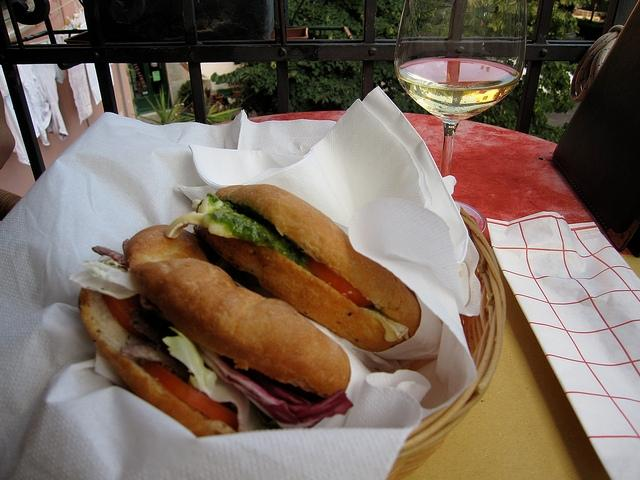lettuce: (162, 326, 263, 434), (210, 200, 311, 270), (70, 260, 138, 300)
tomato: (140, 358, 238, 432), (307, 262, 374, 308), (102, 294, 144, 335)
